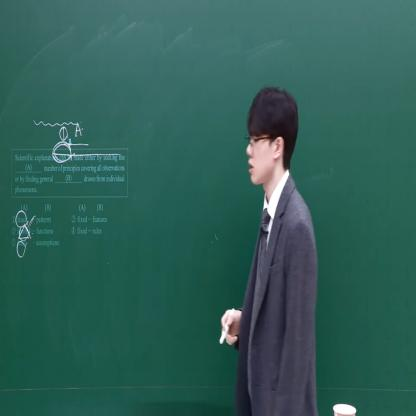streamer: (220, 87, 318, 416)
